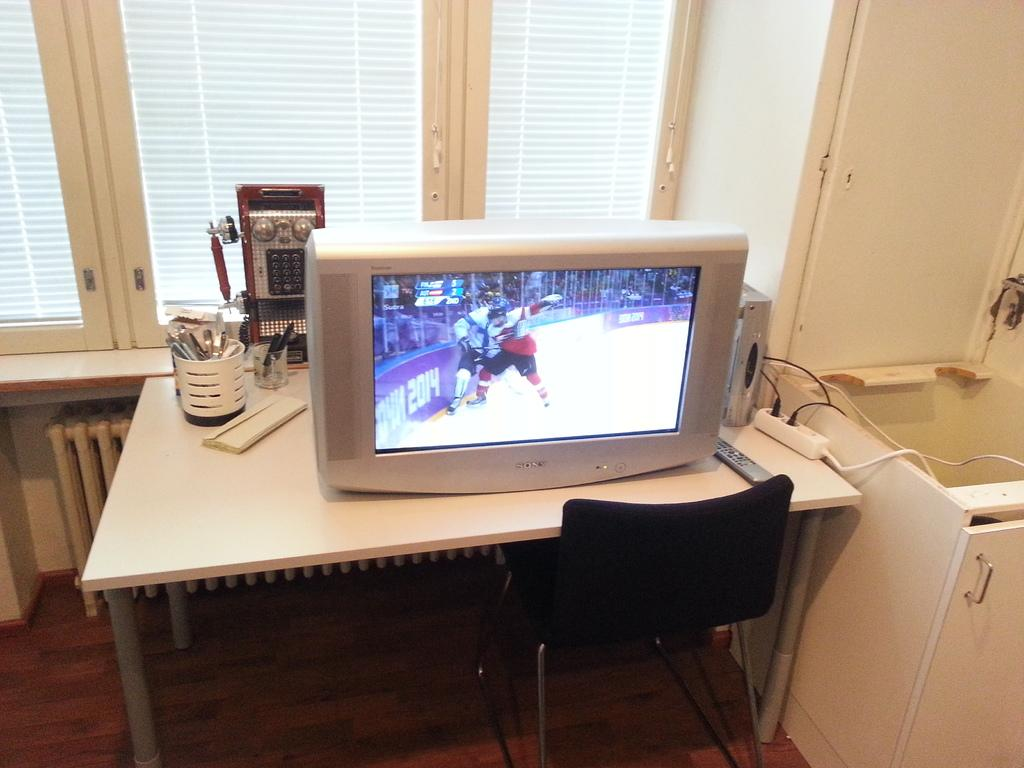Chair: (461, 452, 825, 719)
